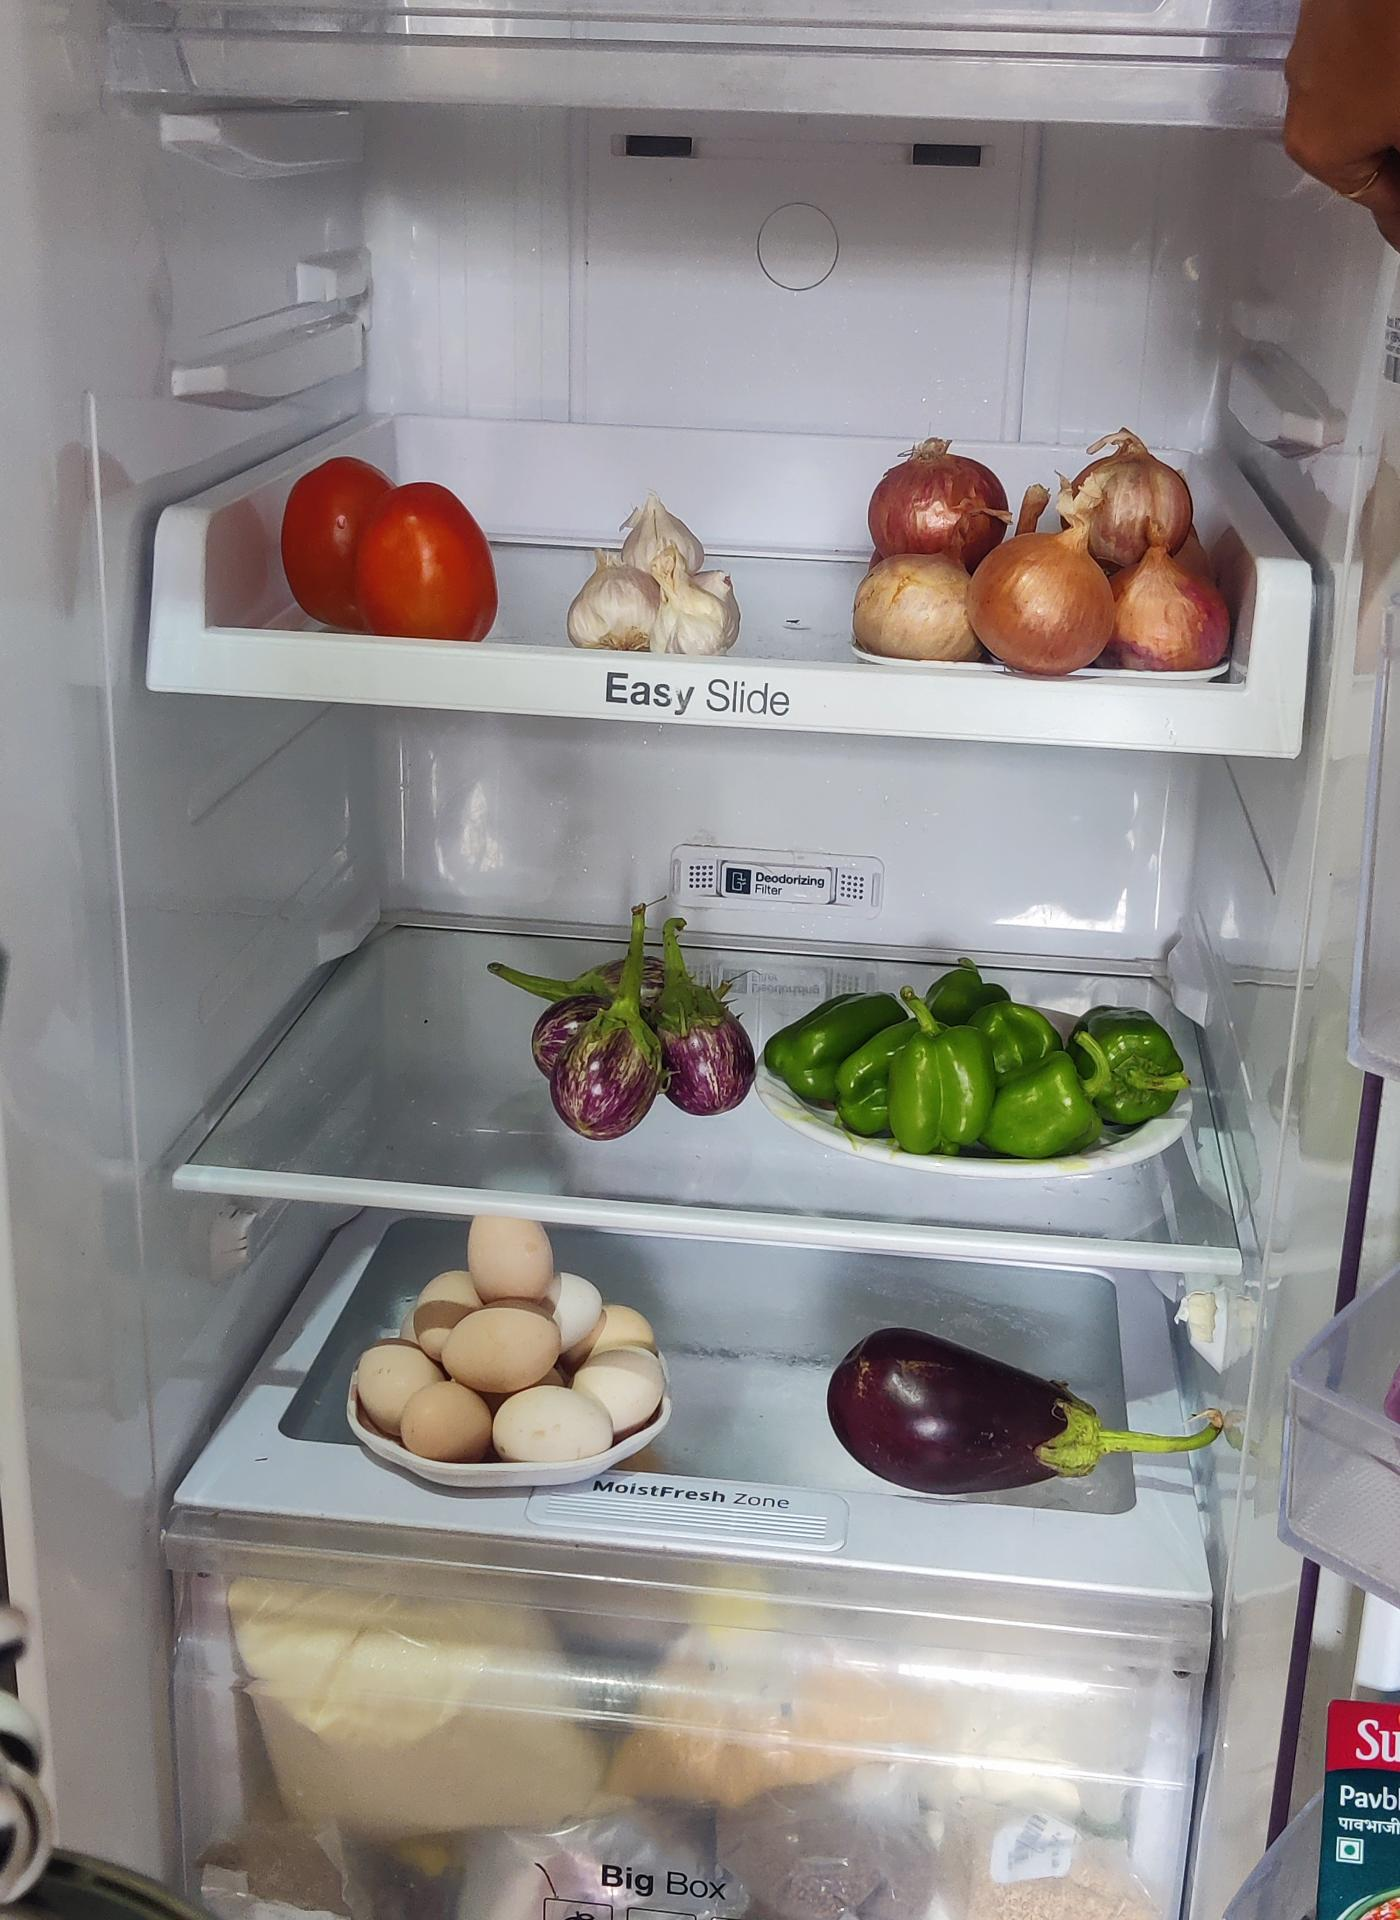brinjal: (823, 1322, 1229, 1489), (501, 914, 759, 1137)
capsicum: (781, 957, 1178, 1143)
egg: (341, 1197, 671, 1476)
garlic: (567, 496, 751, 666)
onion: (847, 410, 1224, 672)
tomato: (286, 453, 502, 644)
